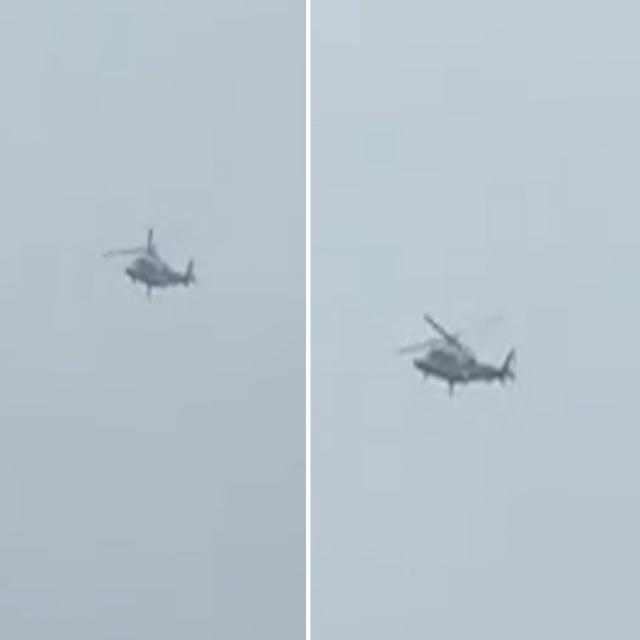helicopter: (402, 313, 520, 394), (101, 224, 201, 300)
